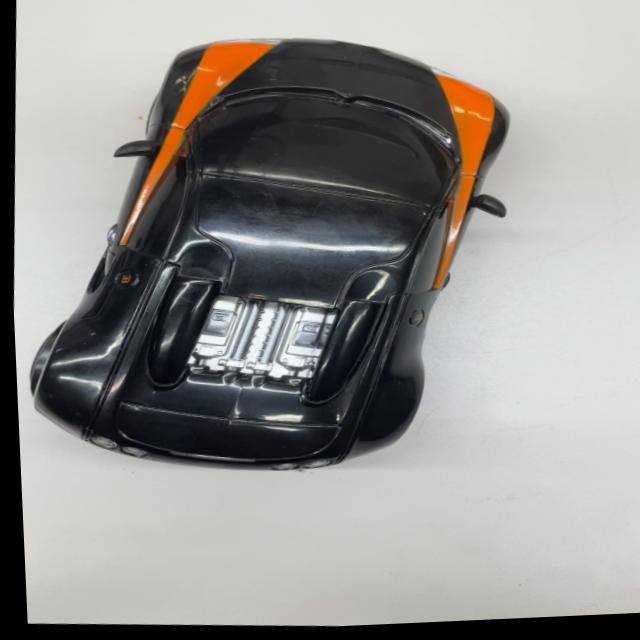vehicle_body: (6, 14, 525, 496)
